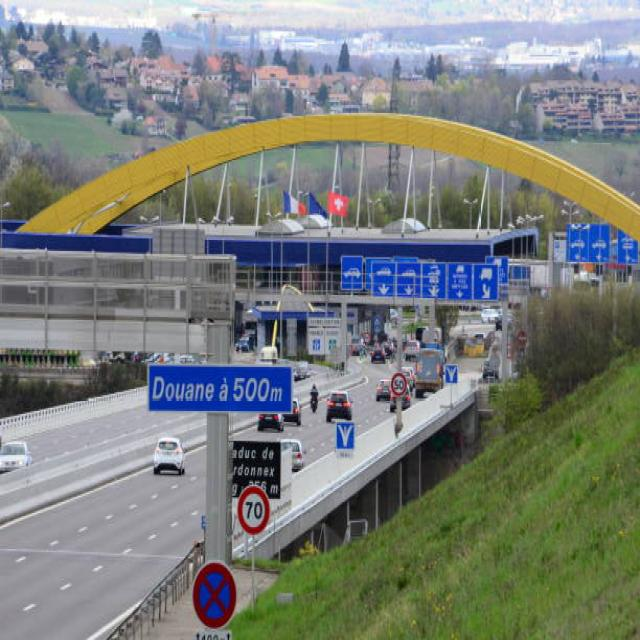Car: (152, 434, 185, 476), (0, 439, 32, 472), (326, 389, 352, 422)
Motorcycle: (308, 390, 318, 412)
Traffic-sign: (337, 248, 504, 304), (146, 362, 293, 414)
